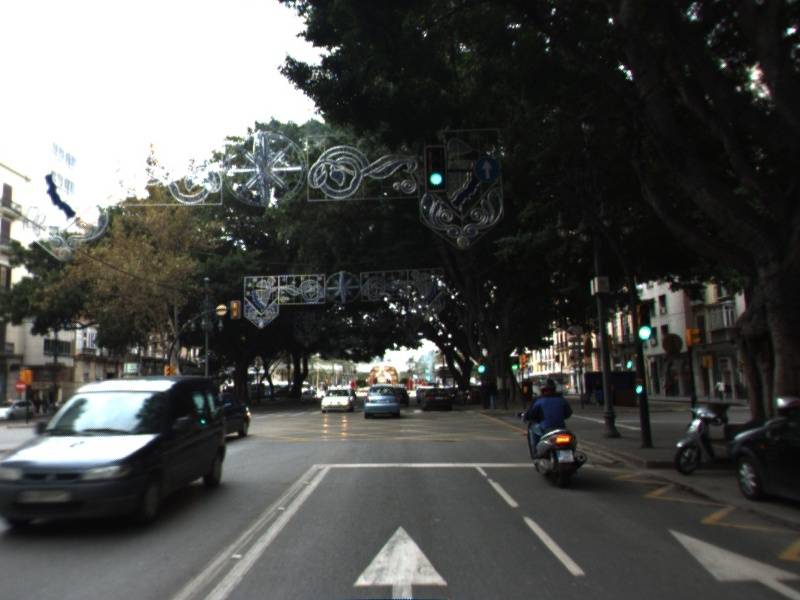STRAIGHT: (662, 525, 800, 598), (350, 521, 451, 600)
